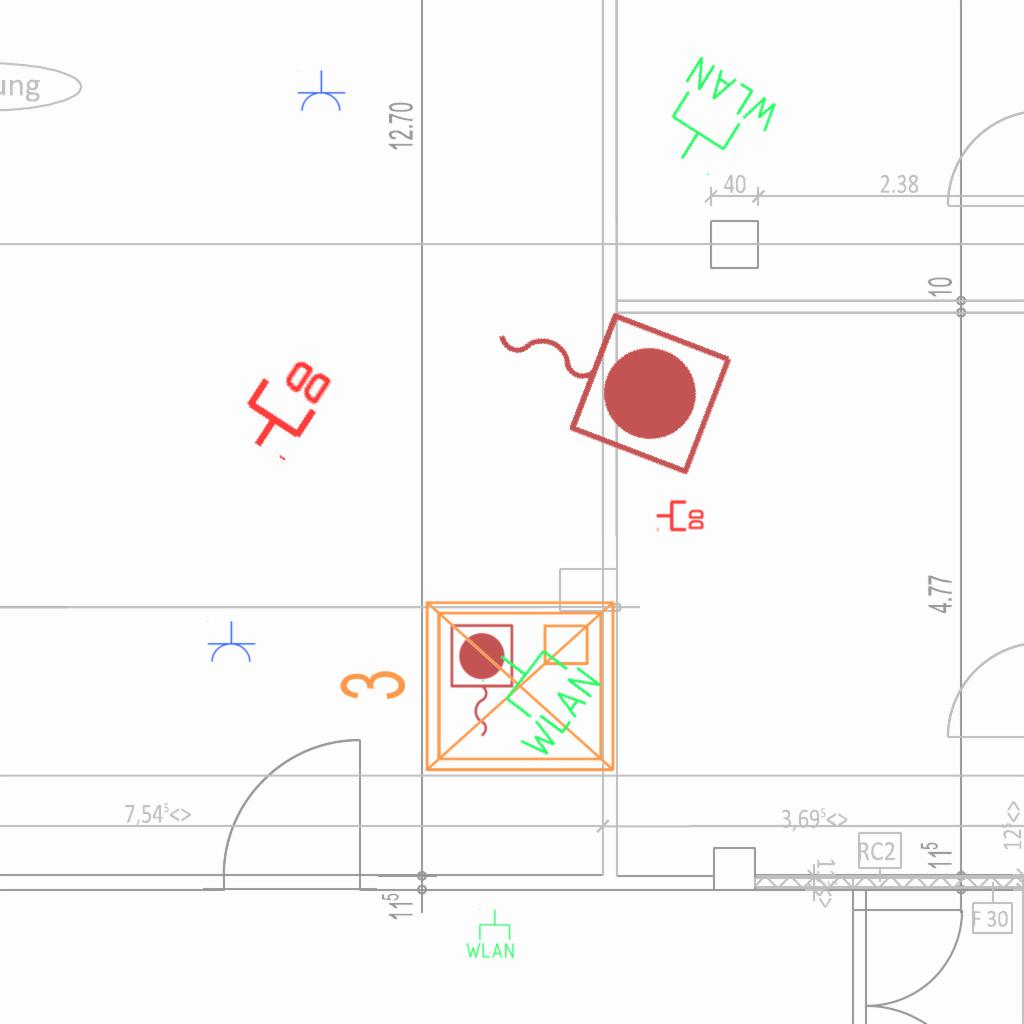Datenanschluss_zweifach: (225, 341, 340, 466), (655, 498, 706, 532)
Einbaudownlights_LED_Konferenzraeume: (329, 586, 629, 794)
Schukosteckdose_einfach: (206, 621, 256, 664), (296, 70, 346, 113)
WLAN: (460, 620, 608, 767), (643, 50, 789, 195), (464, 908, 516, 960)
Zugtaster: (464, 263, 744, 485), (445, 620, 517, 742)
